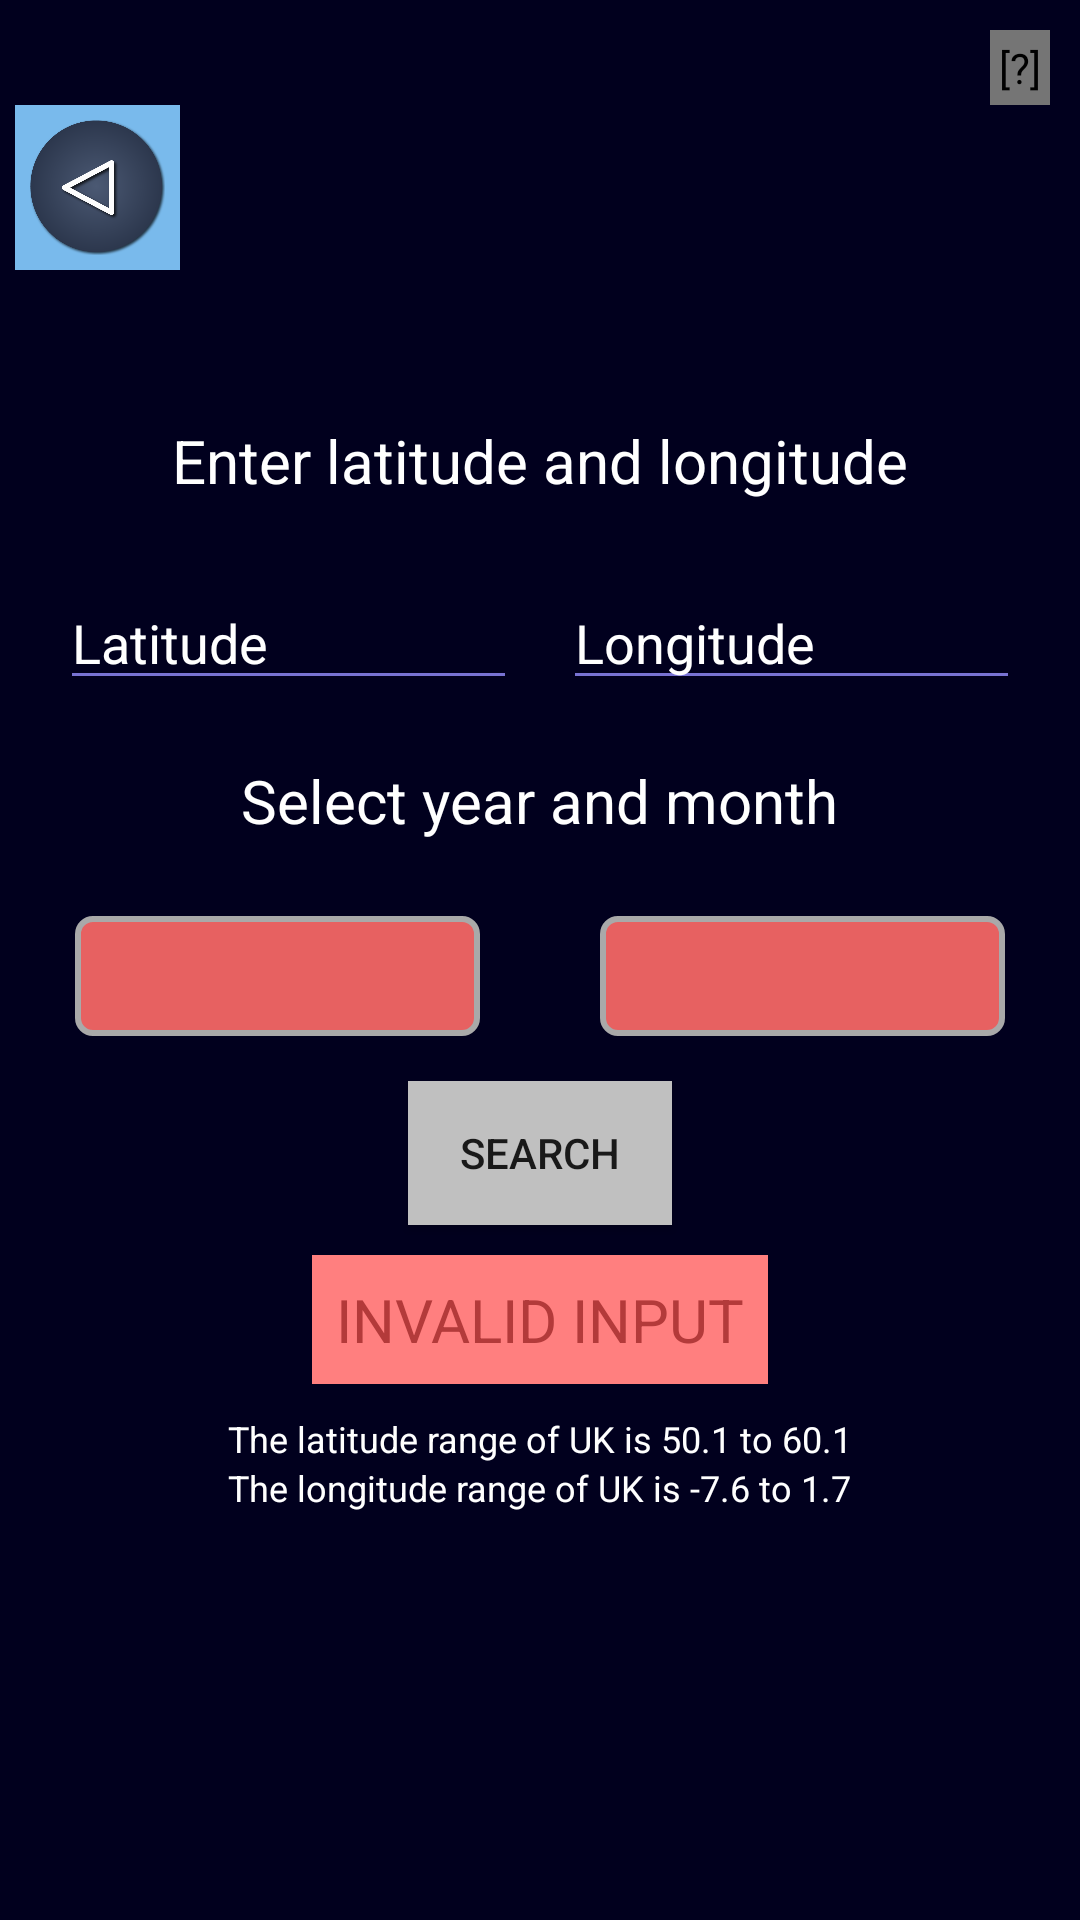

Point at icon controls on the screen. Image size 1080 × 1920, points as (x=x, y=y).
backbutton: (x=97, y=187)
